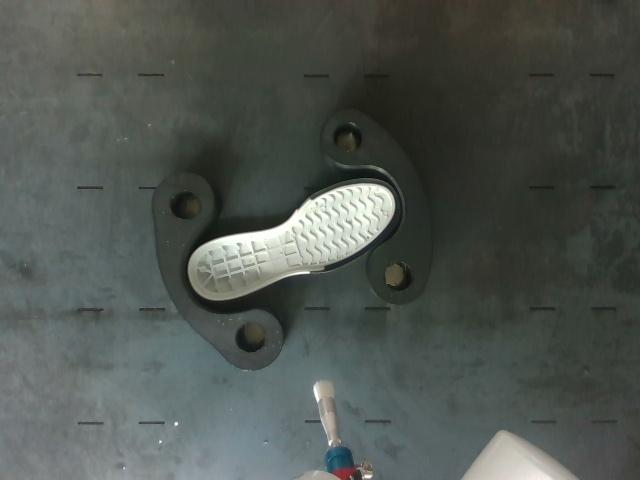shoes: (189, 179, 399, 299)
